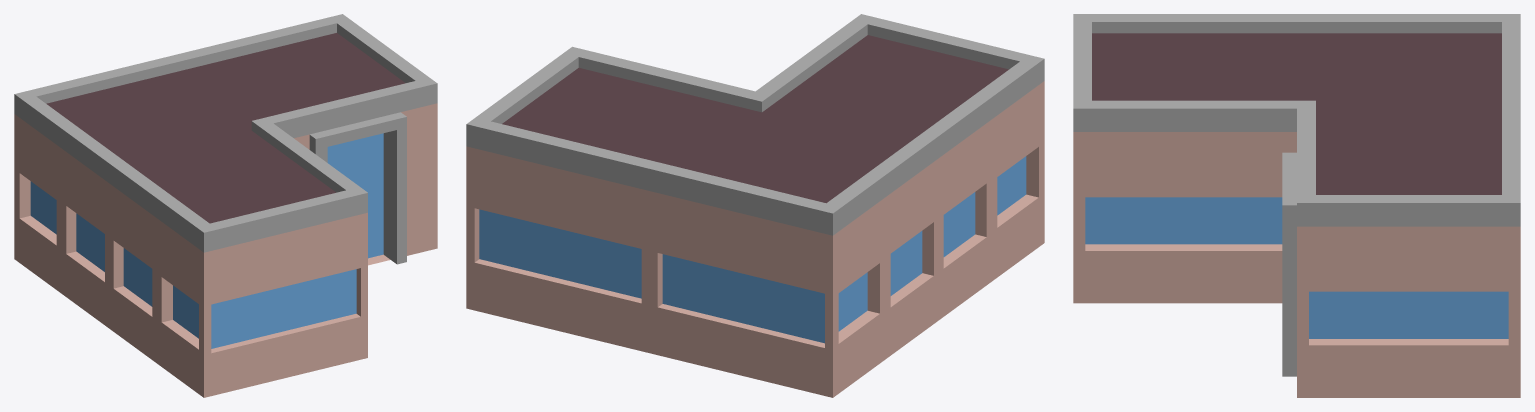
Rendered from building_L_1_g.glb.
The picture shows the model from 3 angles, left to right: view 1: azimuth 30°, elevation 25°; view 2: azimuth 150°, elevation 25°; view 3: azimuth 270°, elevation 25°; orthographic projection. The views are drawn at different scales.
Parts seen in each view (by area): view 1: Cube; view 2: Cube; view 3: Cube.
Part boxes in pixels (<box>): Cube: <box>14,14,437,397</box>; Cube: <box>466,14,1044,397</box>; Cube: <box>1073,14,1520,397</box>.
Bounding box in the file's own units: 3.33 × 1.6 × 3.33.
